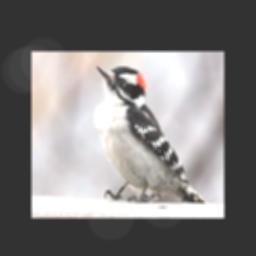Woodpecker: (91, 65, 204, 205)
